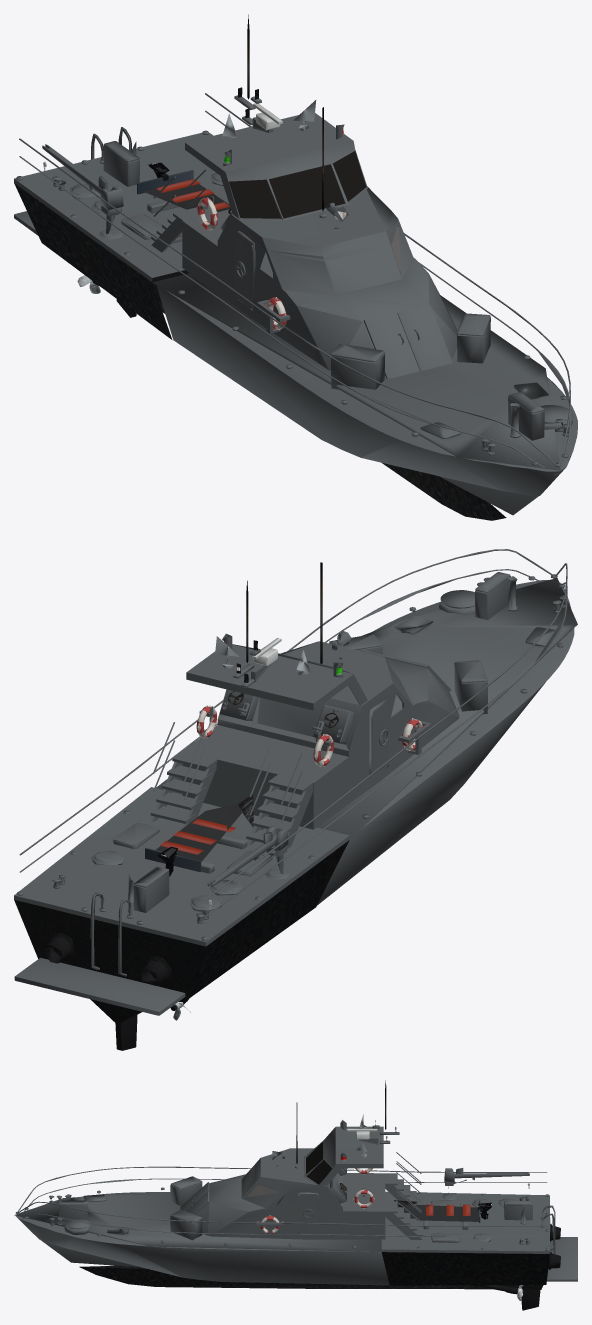
Rendered from ship_gunboat.glb.
The picture shows the model from 3 angles, top to bottom: view 1: azimuth 30°, elevation 25°; view 2: azimuth 150°, elevation 25°; view 3: azimuth 270°, elevation 25°; orthographic projection. The views are drawn at different scales.
Size of the model in its own units: 4.14 by 7.66 by 16.99.
24 materials, 18 textured.
